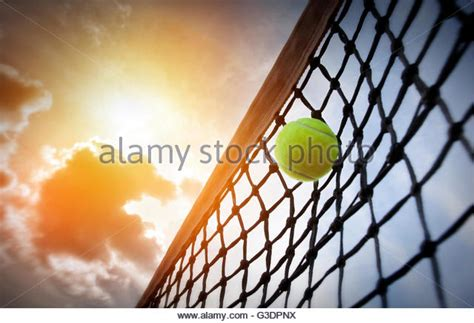tennis_ball: (275, 117, 339, 182)
